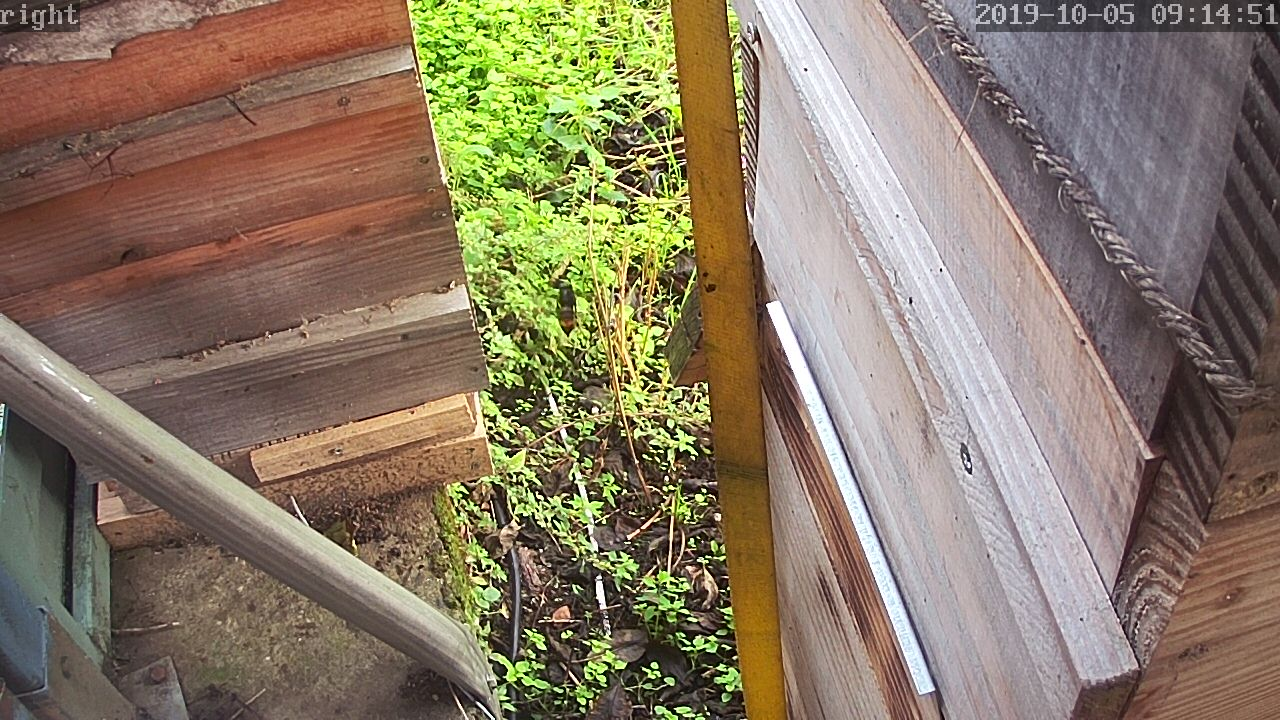hornet: (337, 486, 393, 548), (649, 250, 690, 301), (540, 278, 575, 337)
